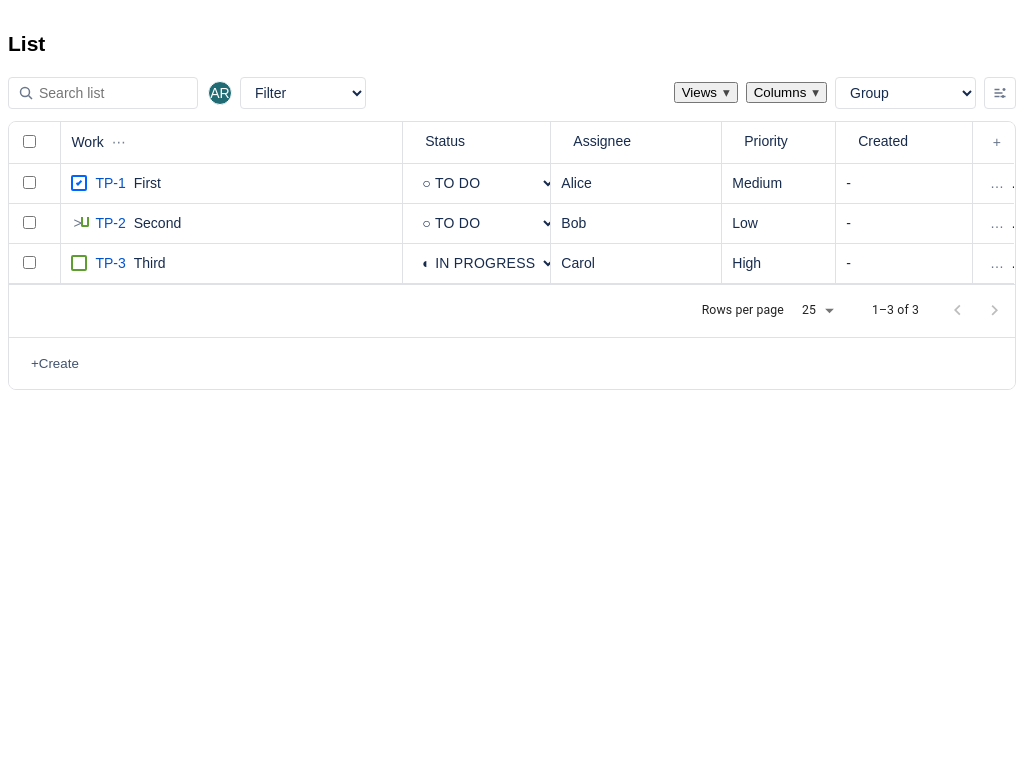
Scenario: JL-257 — List bulk-action toolbar › is hidden until a row is selected, then shows the selection count
The width and height of the screenshot is (1024, 768).
Click the checkbox named "Select TP-1" at [30, 182], box [23,176,36,189]
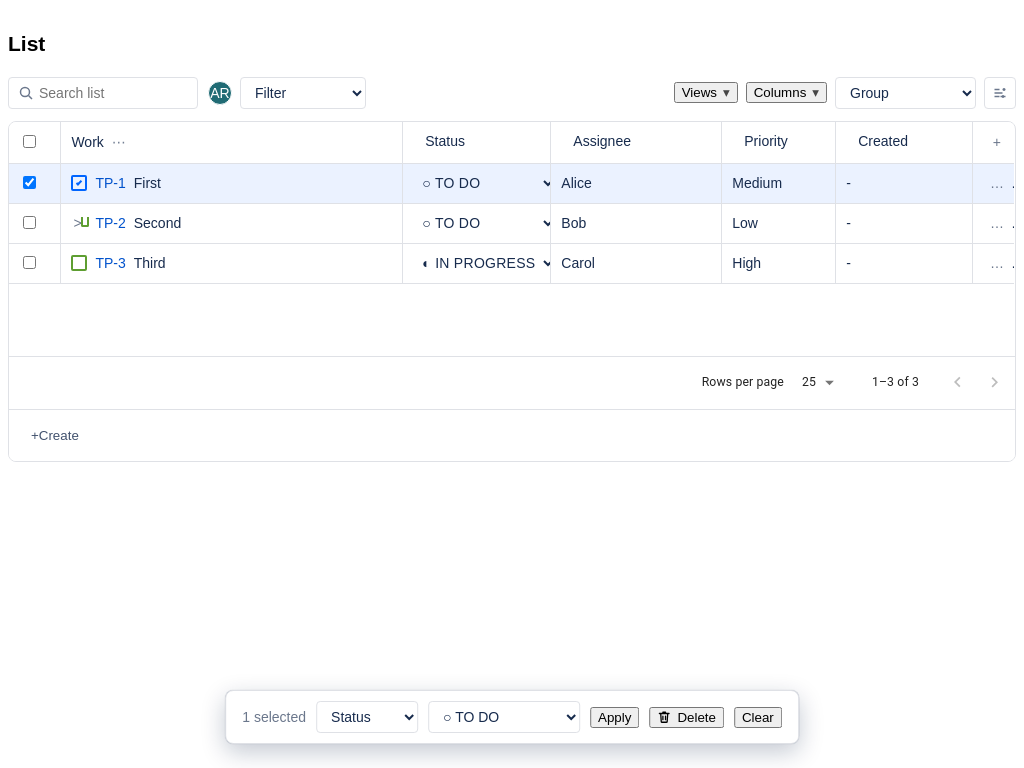
Expected: the element named "Bulk actions" is shown, [225,690,799,744]
Expected: the text "1 selected" is shown, [242,707,306,727]
Click the checkbox named "Select TP-2" at [30, 222], box [23,216,36,229]
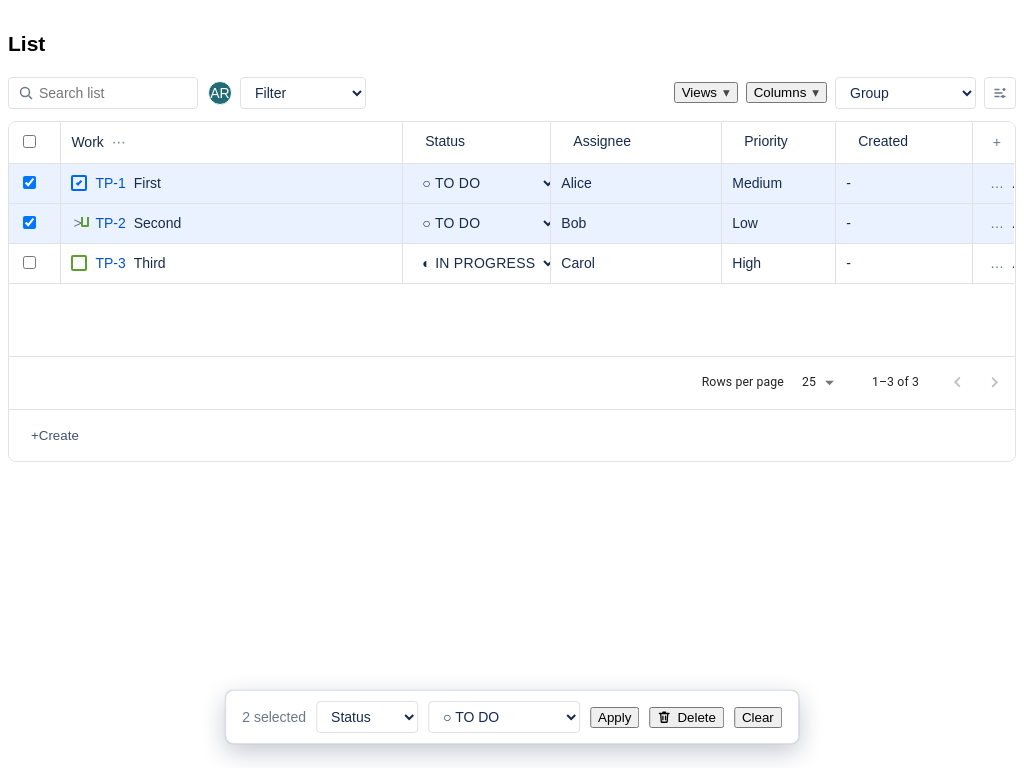
Expected: the text "2 selected" is shown, [242,707,306,727]
